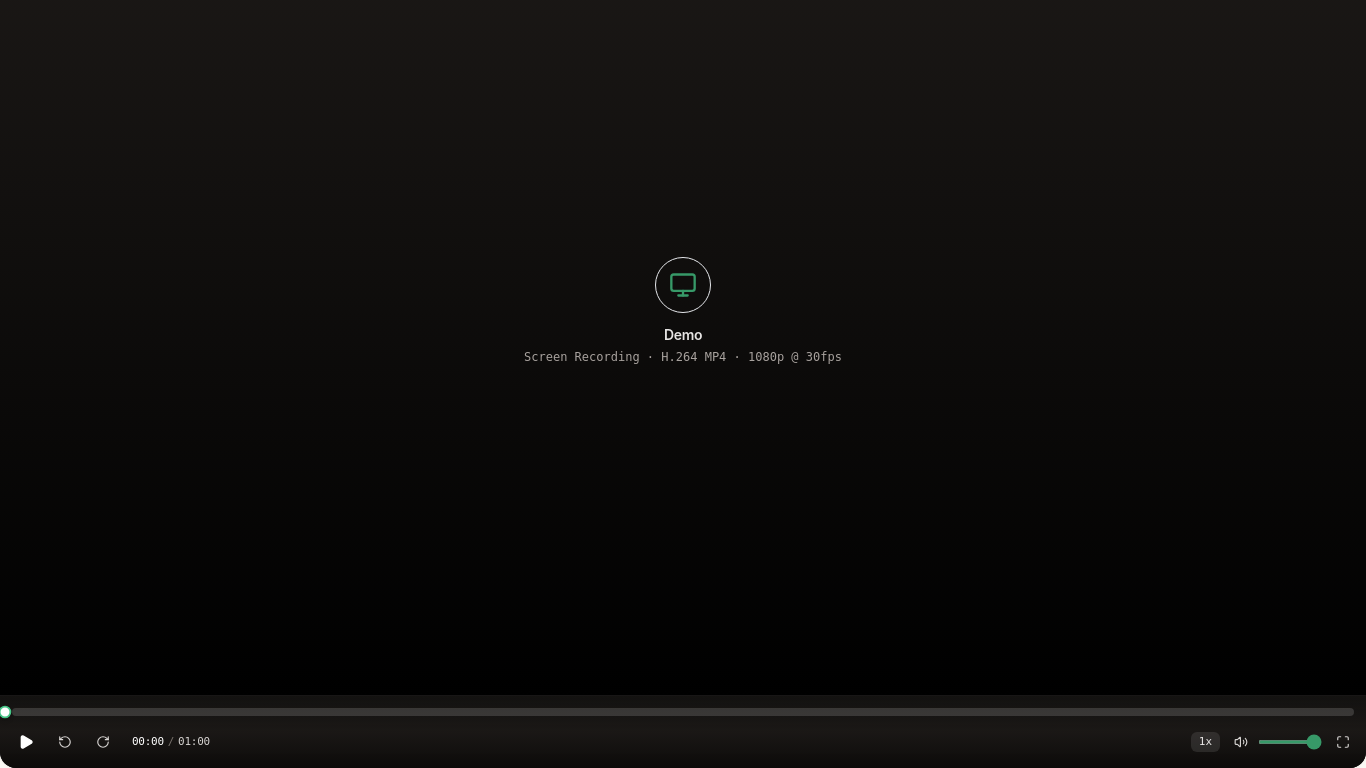
Video fullscreen in the desktop app (window-level; the webview has no element Fullscreen API) › leaves fullscreen with the button and with Escape
(page scrolled)
Click the button named "enter fullscreen": (1343, 742) 1332,731 -> 1354,753
(page scrolled)
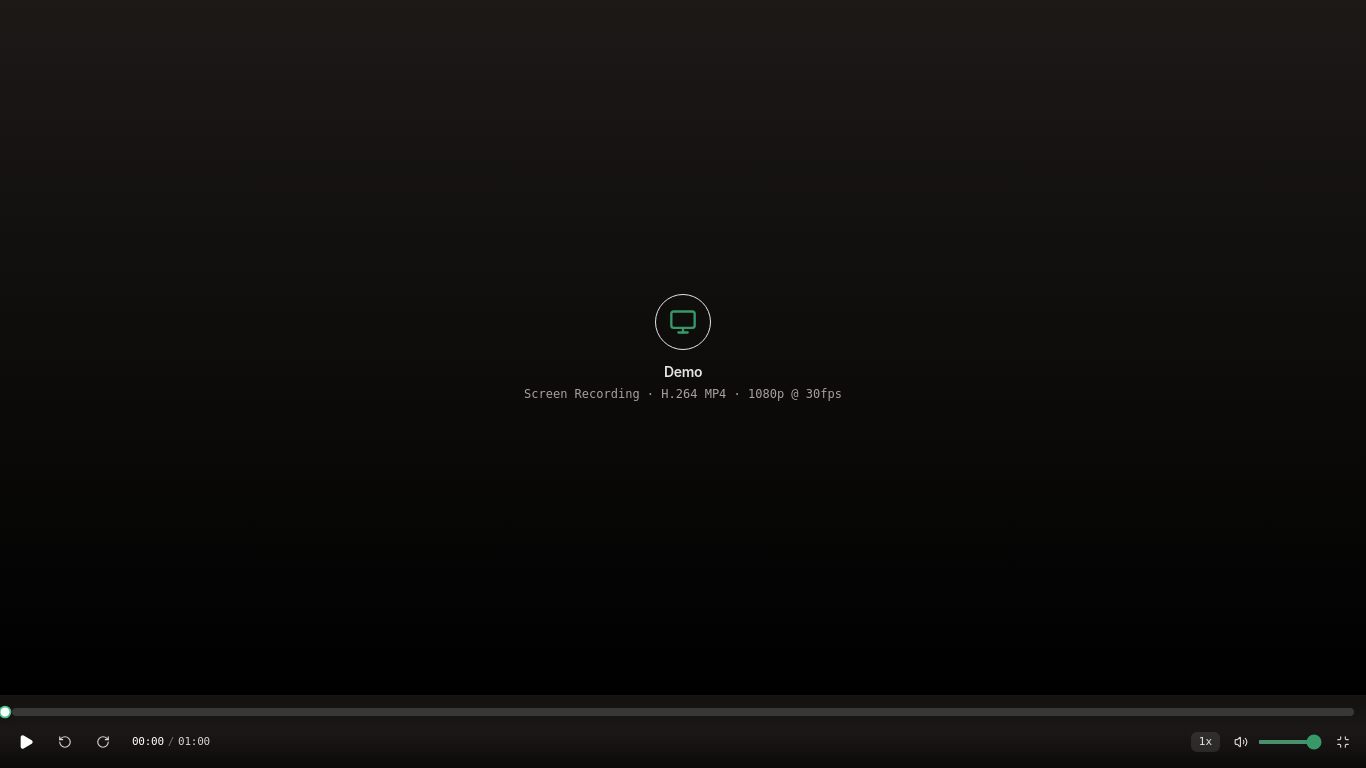
Check: the button named "exit fullscreen" is shown
Click the button named "exit fullscreen": (1343, 742) 1332,731 -> 1354,753
(page scrolled)
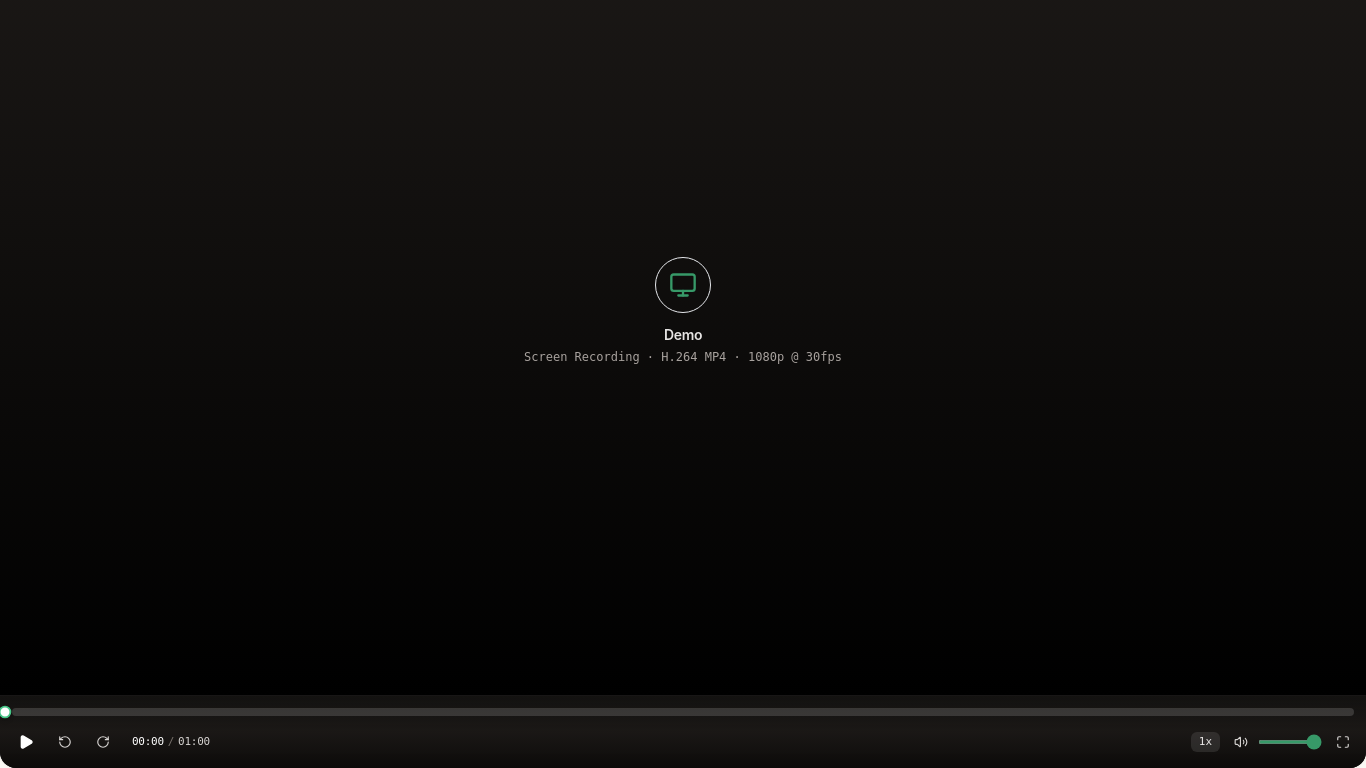
Check: the button named "enter fullscreen" is shown
Click the button named "enter fullscreen": (1343, 742) 1332,731 -> 1354,753
(page scrolled)
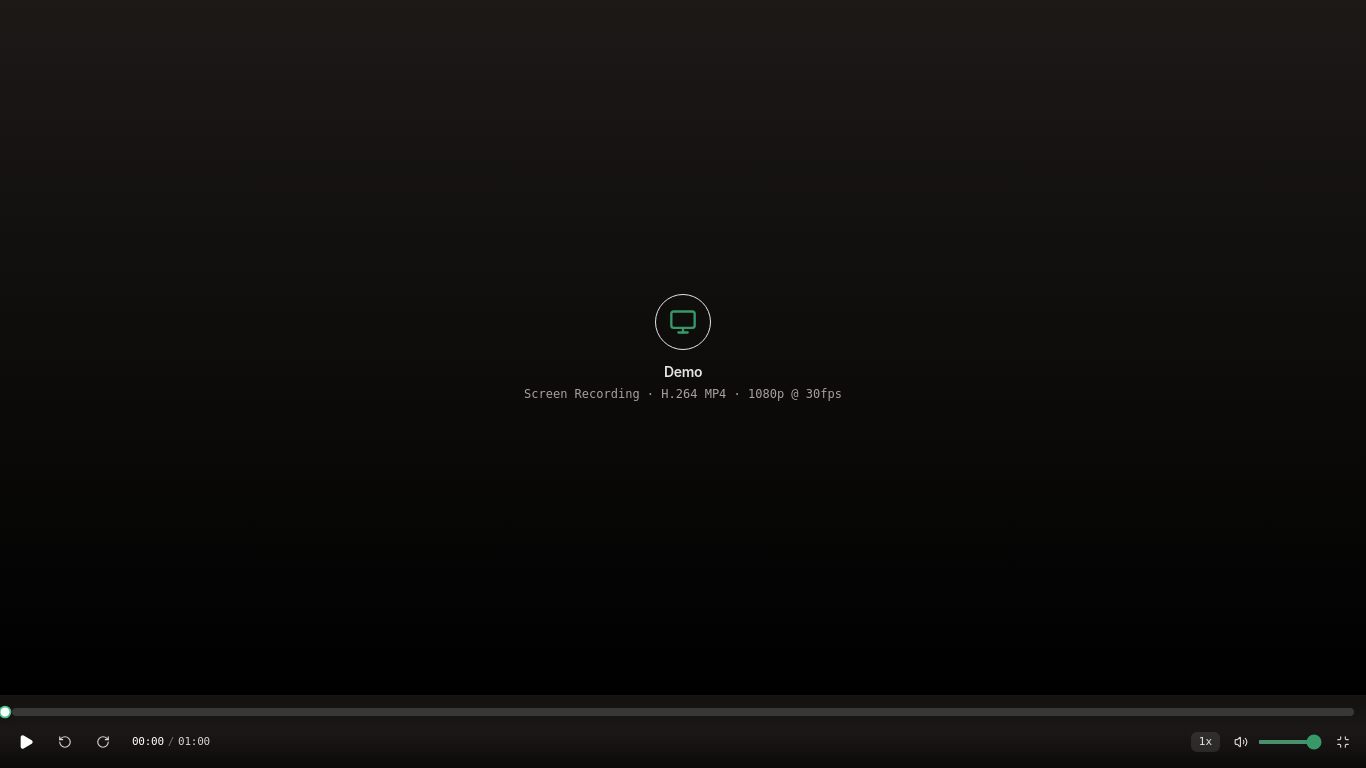
Check: the button named "exit fullscreen" is shown, box 1332,731 -> 1354,753
Press Escape
(page scrolled)
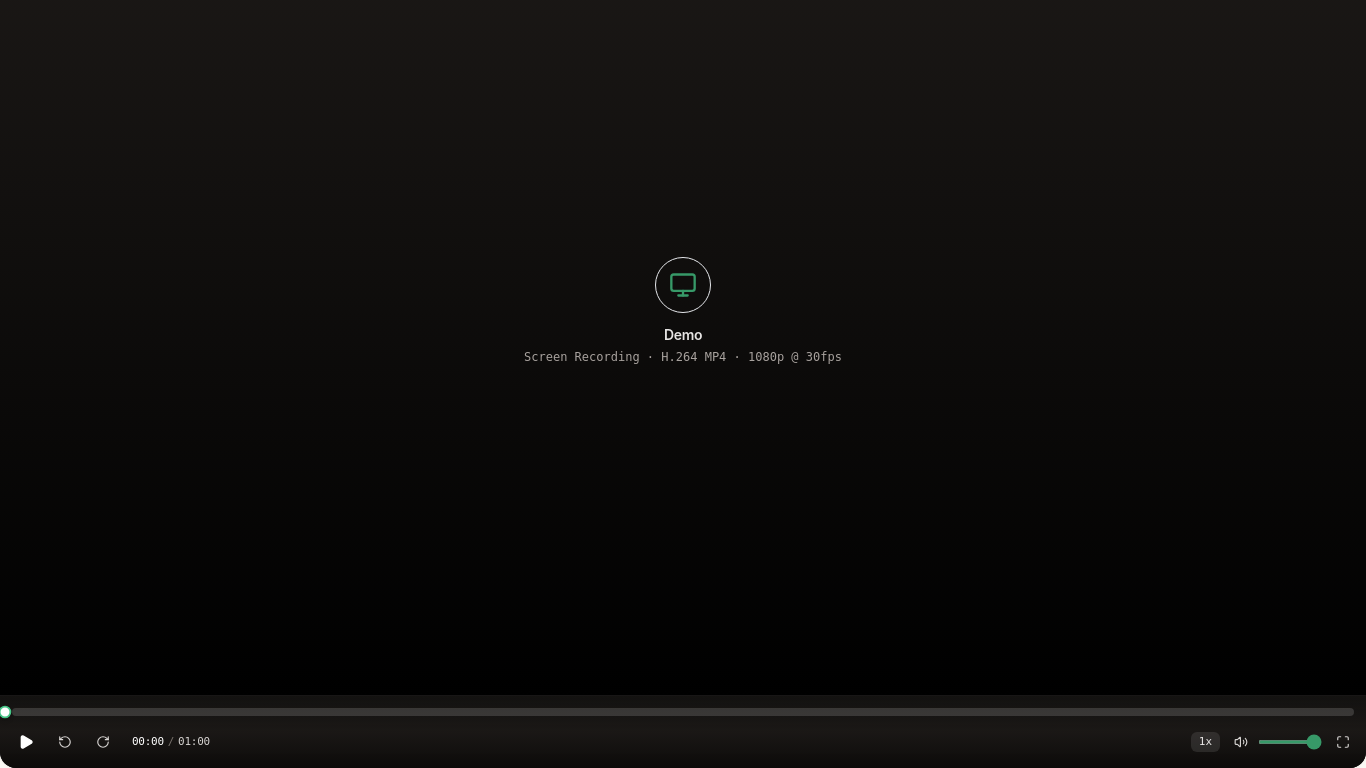
Check: the button named "enter fullscreen" is shown, box 1332,731 -> 1354,753
